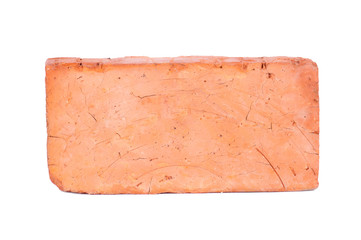brick: (46, 57, 318, 192)
